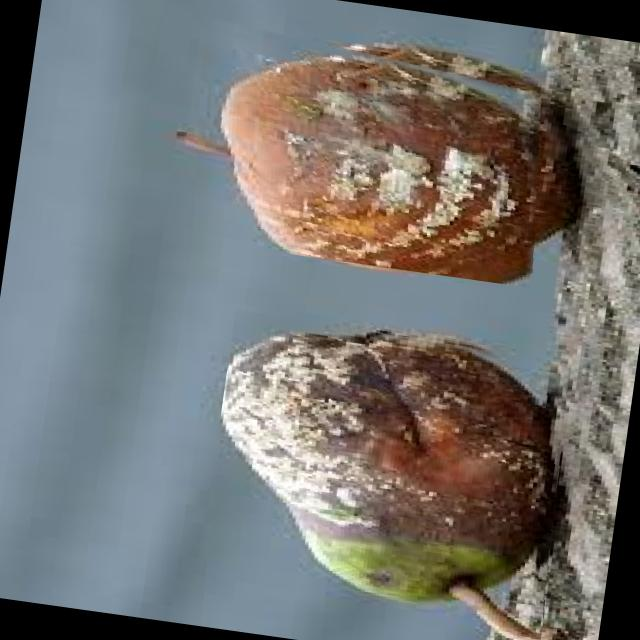Organic: (196, 308, 581, 640), (172, 12, 566, 288)
